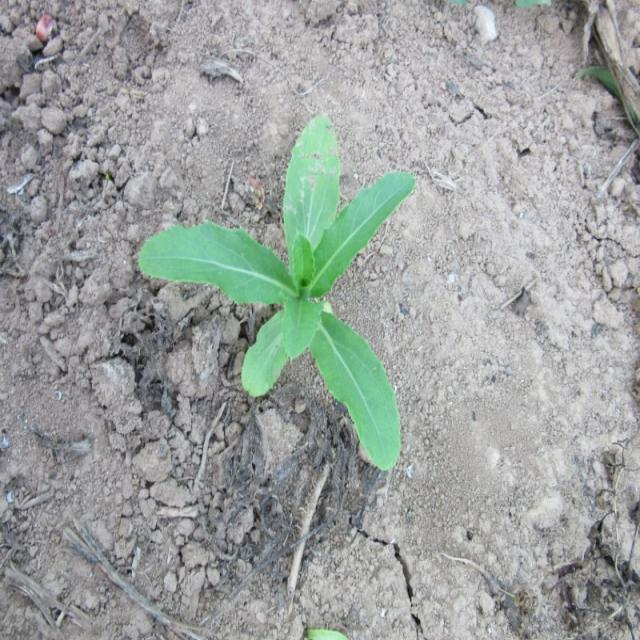cs: (138, 118, 415, 476)
